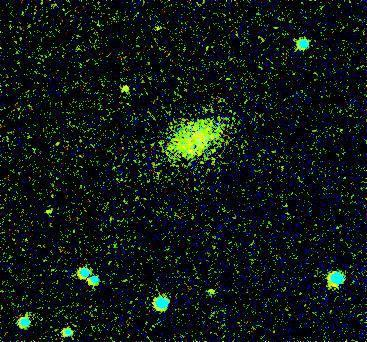star: (109, 74, 139, 104)
